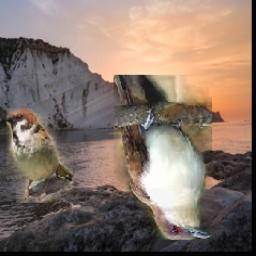Cuckoo: (114, 75, 212, 240)
Sparrow: (6, 110, 73, 204)
